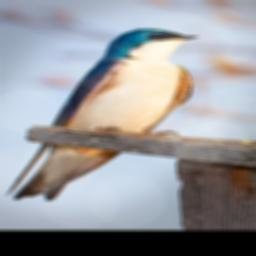Swallow: (4, 28, 200, 202)
